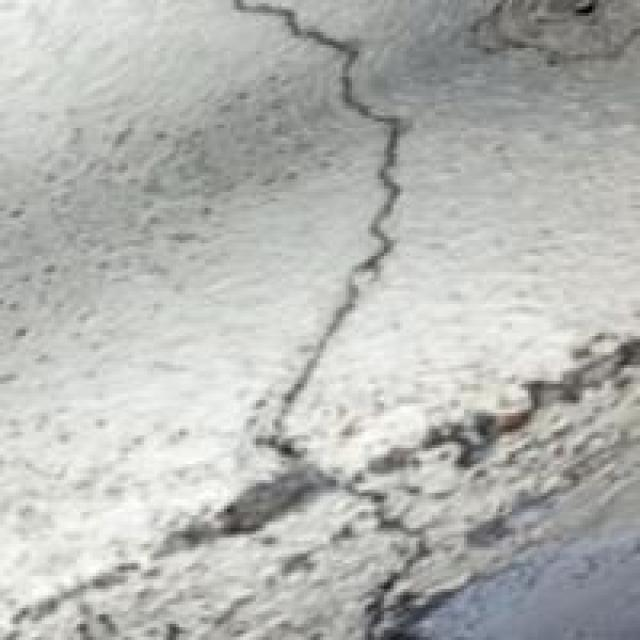Crack: (163, 0, 493, 429)
